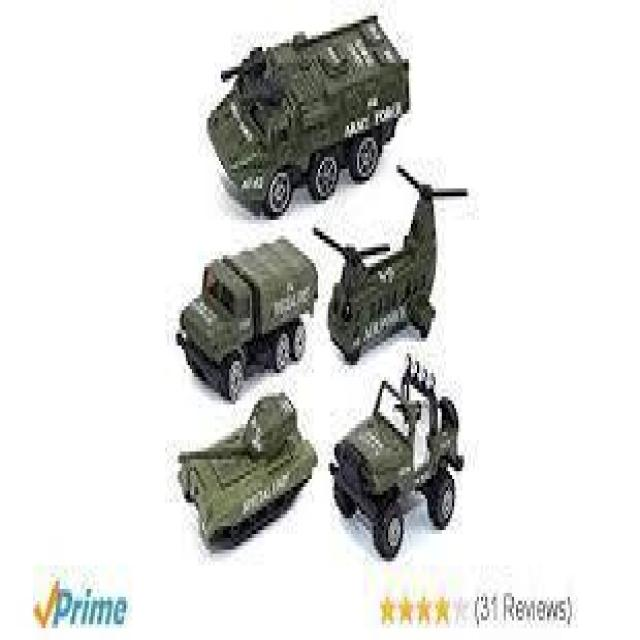Tanks: (177, 402, 318, 552)
